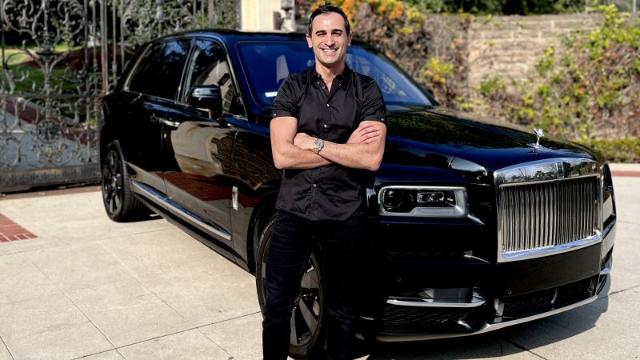rolls-royce: (98, 30, 616, 344)
